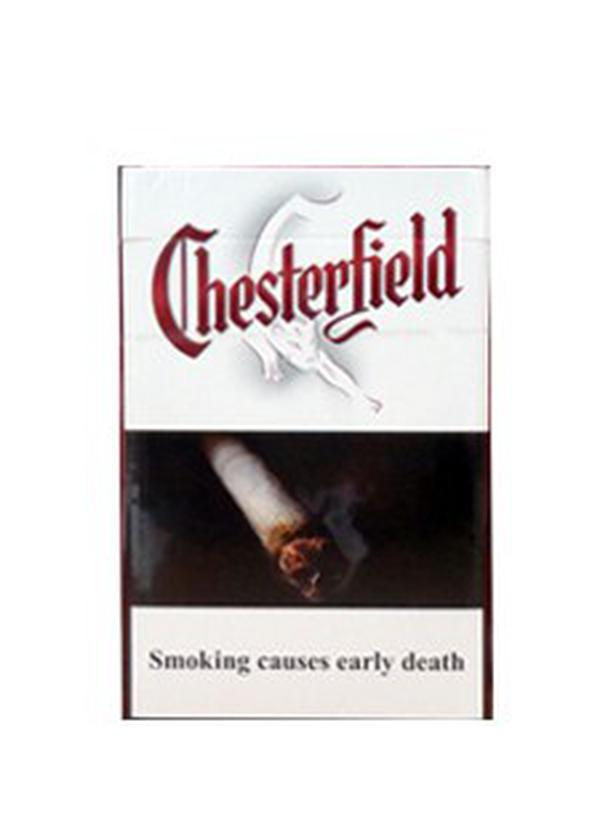chesterfield_red: (121, 170, 493, 723)
